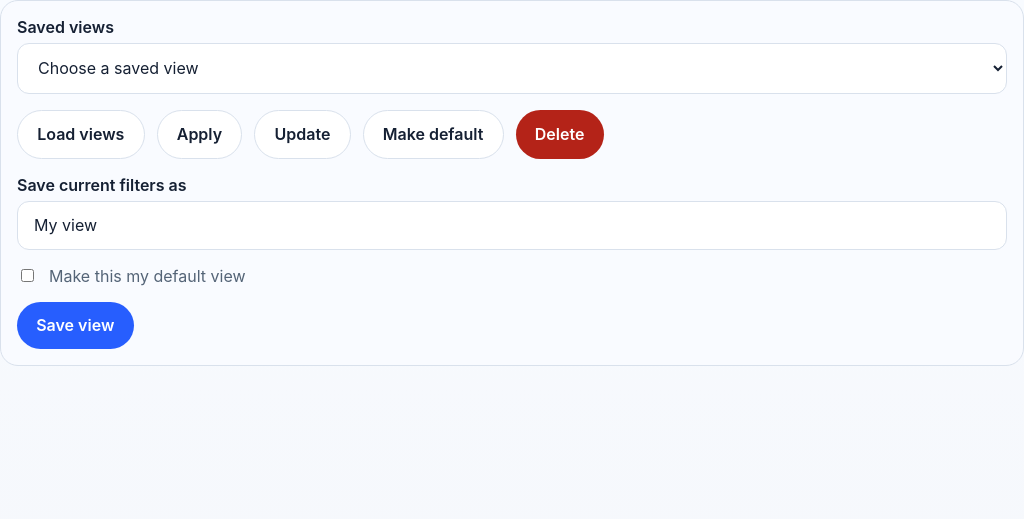
Scenario: SavedViews › loads every legacy page and keeps row 101 manageable
This screenshot has width=1024, height=519.
Click the button "Load views" at (81, 134), box [17,110,144,159]
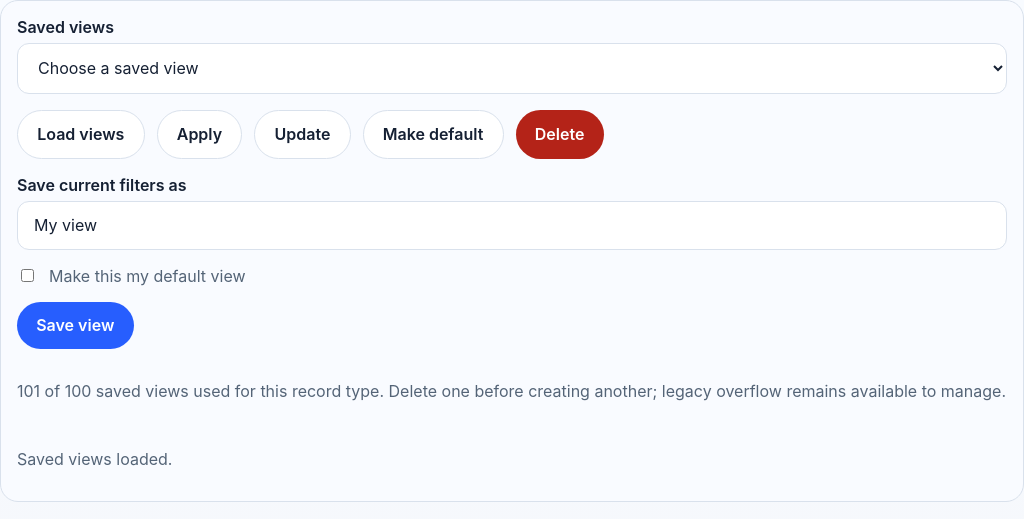
Expected: the button "Save view" is disabled, [17,302,134,349]
Now the text "101 of 100 saved views used" shows "legacy overflow remains available to manage", box [384,381,1006,401]
